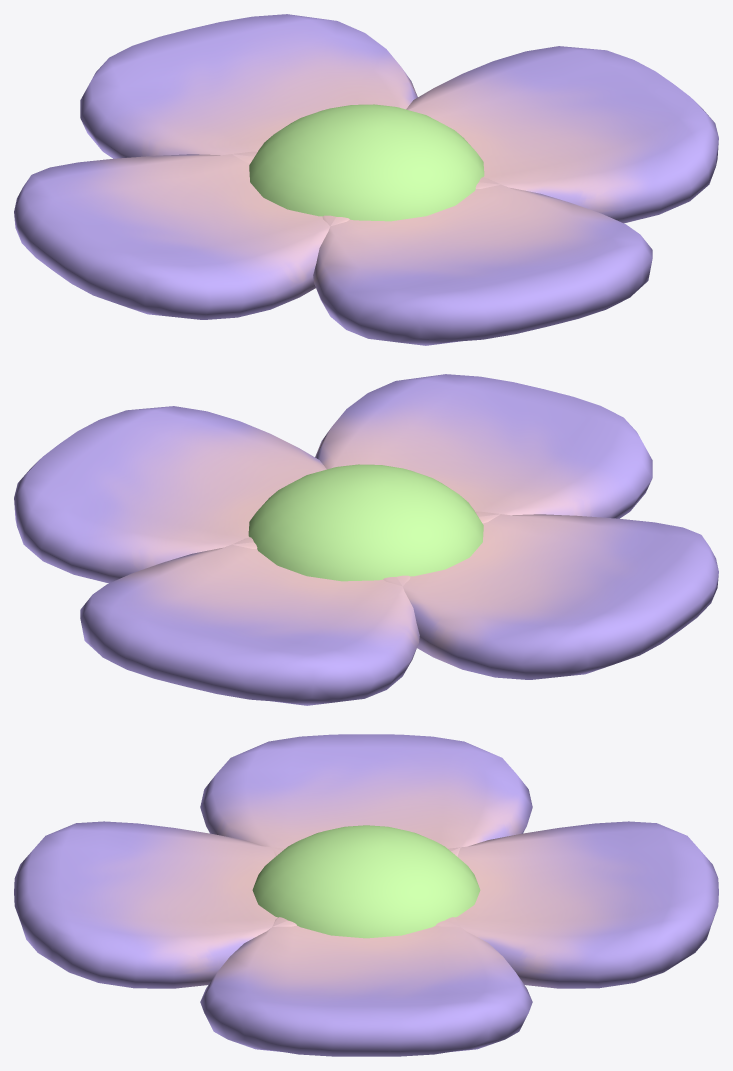
File: hoa8.fbx
3 views of the same model, one above another, from view 1: azimuth 30°, elevation 25°; view 2: azimuth 150°, elevation 25°; view 3: azimuth 270°, elevation 25° (orthographic). The views are drawn at different scales.
Visible parts, largest first — view 1: polySurface58, polySurface71, polySurface61, polySurface72, polySurface59; view 2: polySurface58, polySurface72, polySurface61, polySurface71, polySurface59; view 3: polySurface61, polySurface72, polySurface71, polySurface58, polySurface59.
Part boxes in pixels (x1=…): polySurface58: x1=14, y1=151, x2=349, y2=319; polySurface71: x1=313, y1=177, x2=652, y2=345; polySurface61: x1=406, y1=46, x2=718, y2=223; polySurface72: x1=80, y1=14, x2=417, y2=163; polySurface59: x1=249, y1=104, x2=484, y2=221; polySurface58: x1=383, y1=511, x2=718, y2=679; polySurface72: x1=80, y1=537, x2=419, y2=705; polySurface61: x1=14, y1=406, x2=326, y2=583; polySurface71: x1=315, y1=374, x2=652, y2=523; polySurface59: x1=248, y1=464, x2=483, y2=581; polySurface61: x1=200, y1=917, x2=532, y2=1056; polySurface72: x1=436, y1=821, x2=718, y2=988; polySurface71: x1=14, y1=821, x2=296, y2=988; polySurface58: x1=200, y1=734, x2=532, y2=856; polySurface59: x1=252, y1=825, x2=480, y2=938.
Bounding box in the file's own units: 83.97 × 18.46 × 83.97.
Materials: 1 (1 with a texture image).
